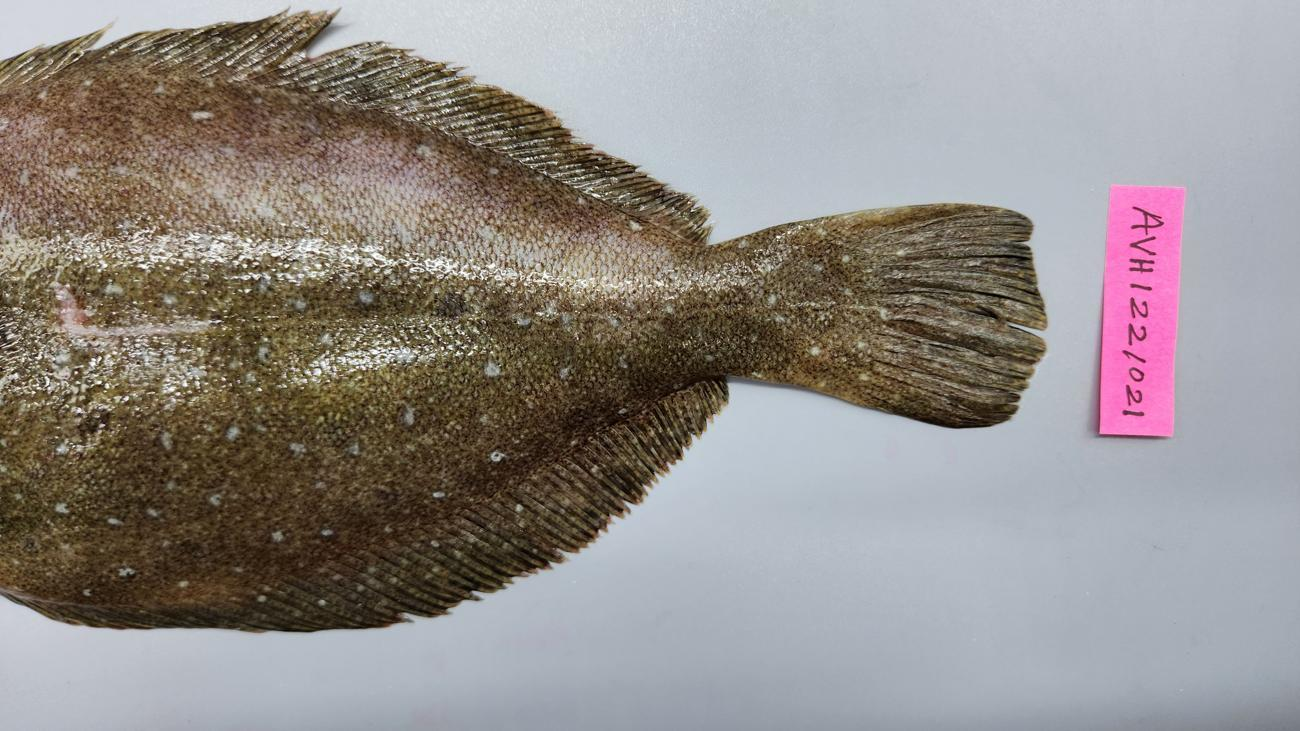VIDYH: (31, 261, 180, 348), (791, 339, 841, 376)
VIFAH: (317, 391, 686, 584)
VIFDH: (384, 52, 609, 161)
